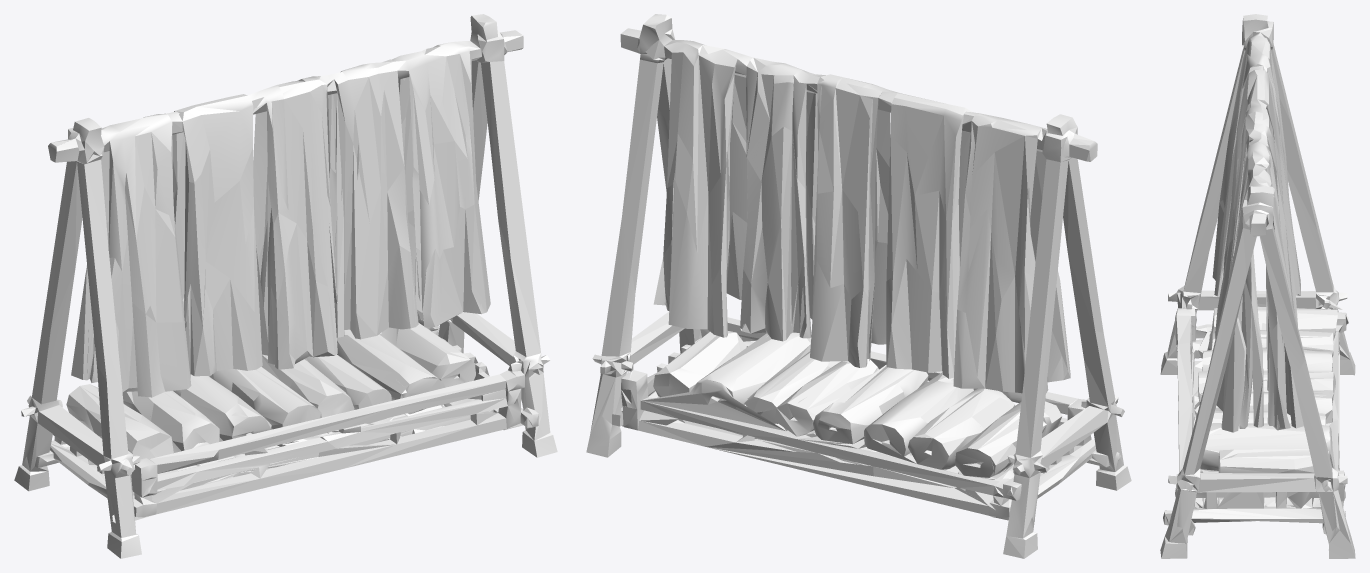
The model's file is cloth_rack.glb.
The picture shows the model from 3 angles, left to right: view 1: azimuth 30°, elevation 25°; view 2: azimuth 150°, elevation 25°; view 3: azimuth 270°, elevation 25°; orthographic projection. The views are drawn at different scales.
Parts seen in each view (by area): view 1: Mesh_0; view 2: Mesh_0; view 3: Mesh_0.
Part boxes in pixels (x1,y1,x2,y2): Mesh_0: [14, 14, 557, 558]; Mesh_0: [586, 14, 1131, 558]; Mesh_0: [1160, 14, 1355, 558].
Bounding box in the file's own units: 2 × 1.63 × 0.7955.
1 material, 1 textured.
